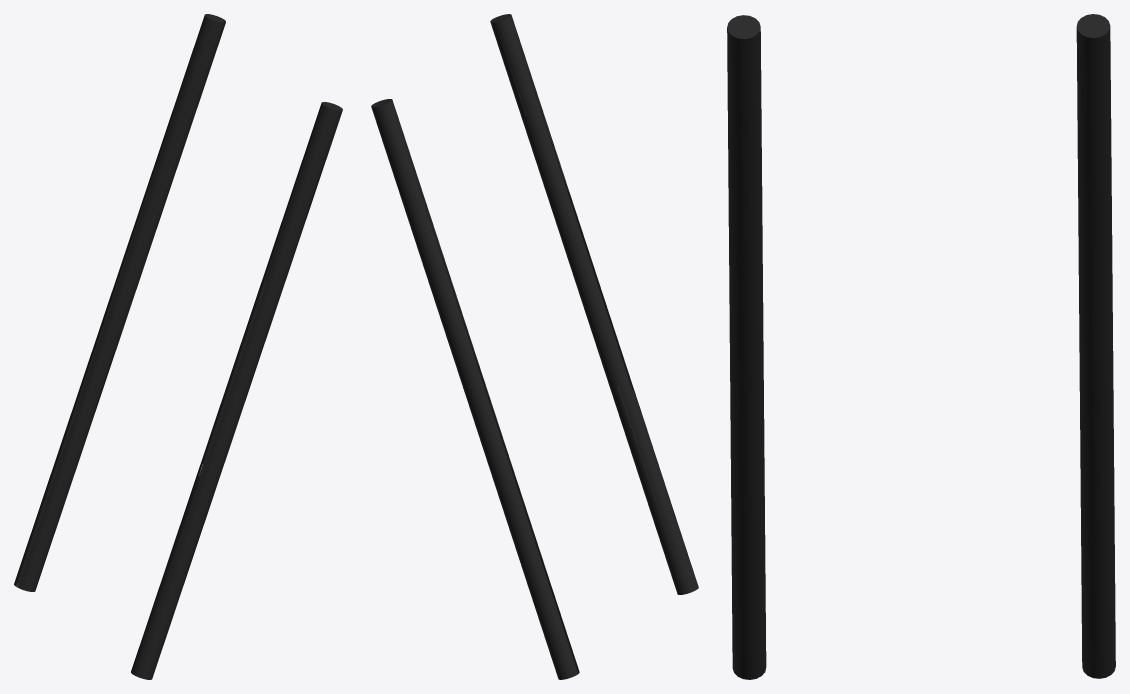
File: zx200-boom-cyl2.dae
3 views of the same model, side by side, from view 1: azimuth 30°, elevation 25°; view 2: azimuth 150°, elevation 25°; view 3: azimuth 270°, elevation 25° (orthographic). The views are drawn at different scales.
Visible parts, largest first — view 1: body-boom-cyl2.002; view 2: body-boom-cyl2.002; view 3: body-boom-cyl2.002.
Boxes of the visible parts, x1=… form: body-boom-cyl2.002: x1=14, y1=14, x2=342, y2=679; body-boom-cyl2.002: x1=371, y1=14, x2=698, y2=679; body-boom-cyl2.002: x1=727, y1=14, x2=1115, y2=679.
Bounding box in the file's own units: 0.6353 × 0.6925 × 1.55.
1 material, 1 textured.
